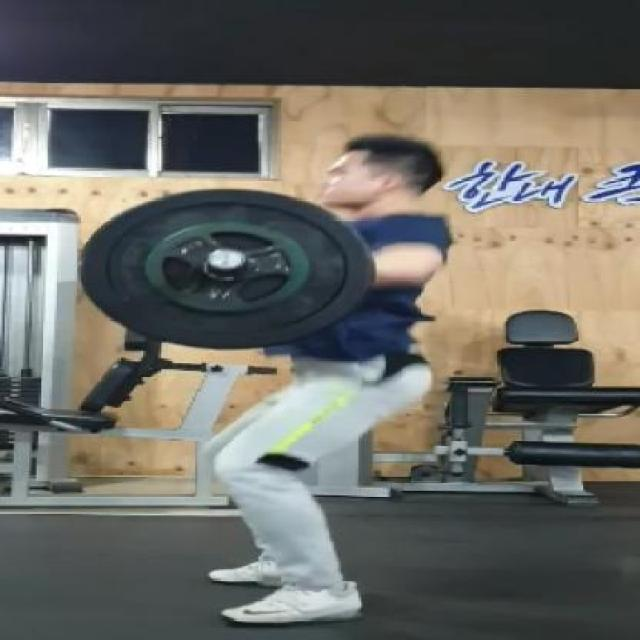barbell: (74, 188, 383, 354)
